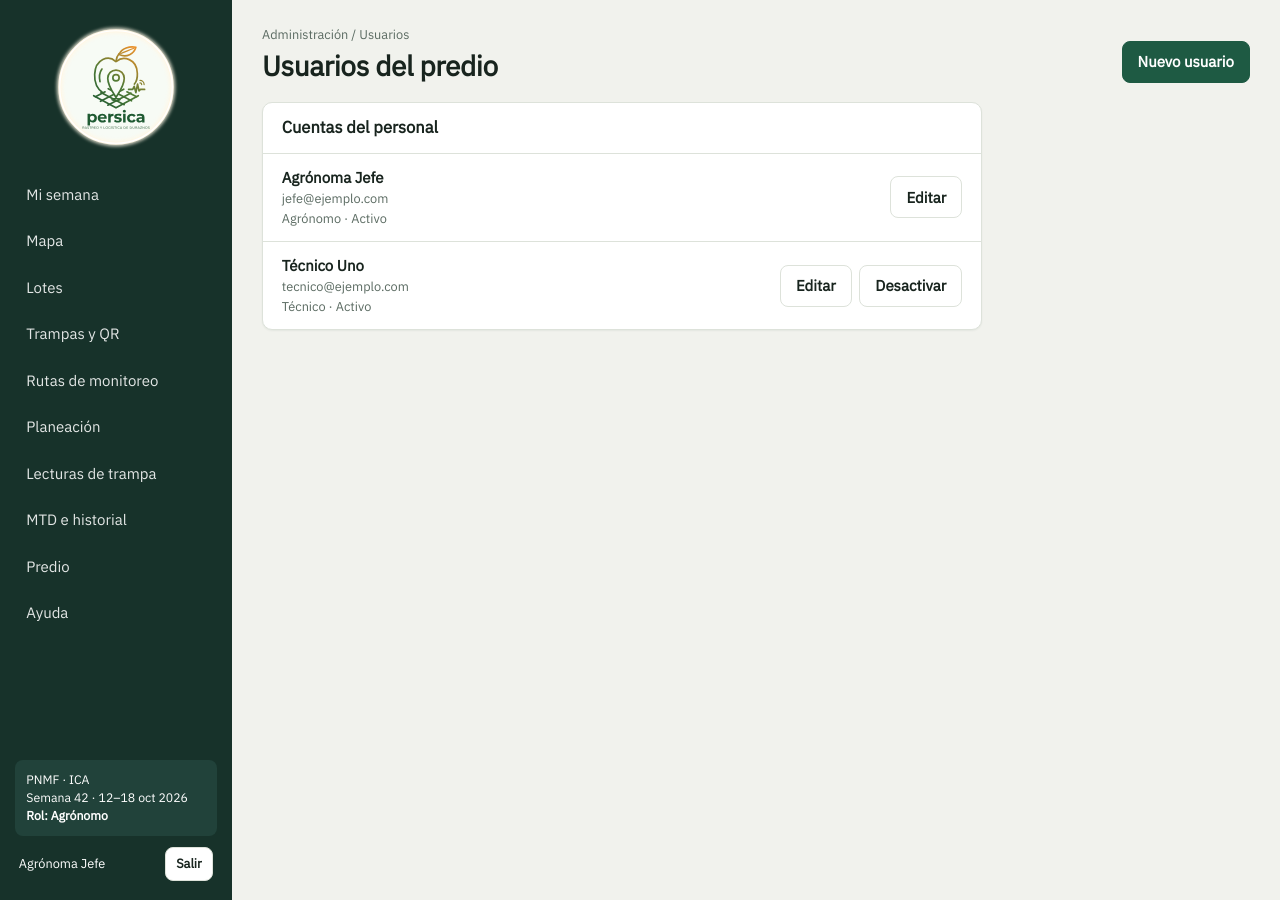
Test: VistaUsuarios › desactiva una cuenta y actualiza la lista
This screenshot has width=1280, height=900.
Click the button with aria-label "Desactivar a Técnico Uno" at (911, 286), box [859,265,962,307]
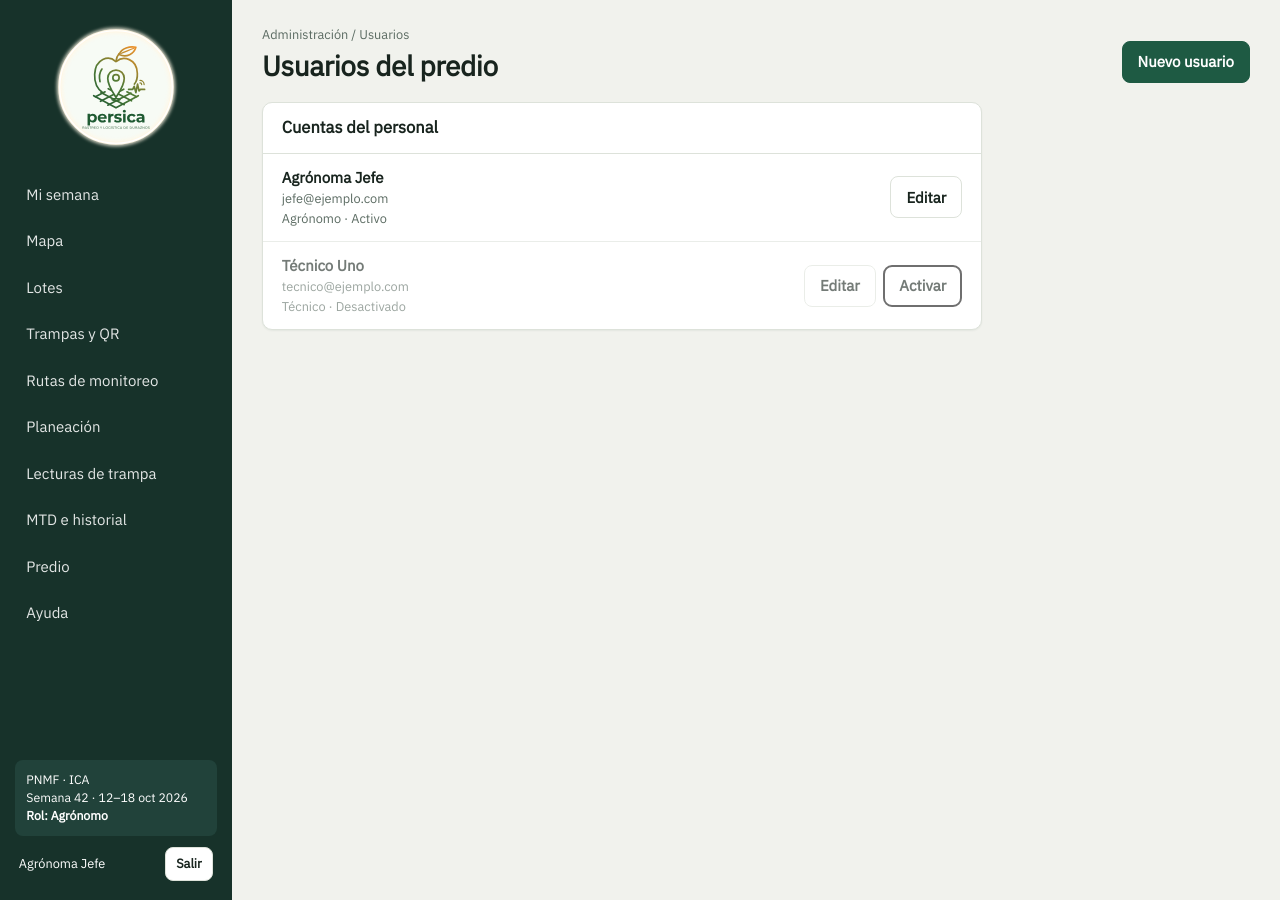
Result: the text "Técnico · Desactivado" is shown at [282,298,409,316]
